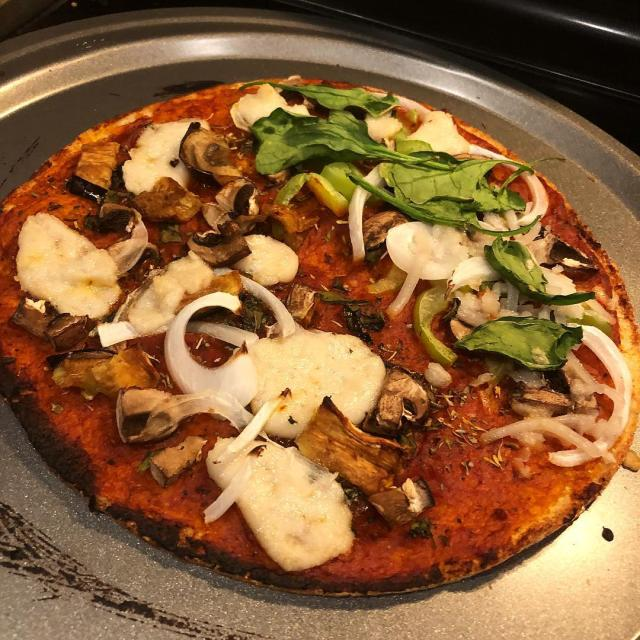basil: (370, 128, 568, 224), (251, 108, 457, 177), (482, 234, 601, 313), (450, 314, 586, 374), (257, 78, 403, 121)
mushrooms: (8, 292, 97, 354), (364, 368, 435, 434), (183, 217, 253, 270), (201, 181, 262, 226), (513, 378, 572, 417), (78, 203, 144, 235), (108, 244, 164, 268)
pizza: (0, 80, 640, 594)
